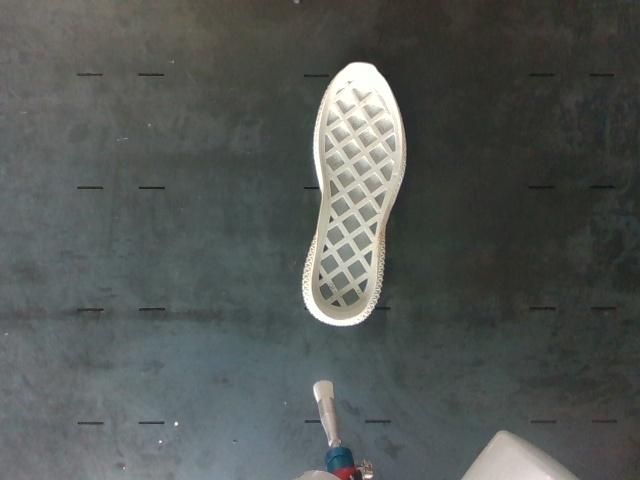shoes: (311, 64, 403, 321)
